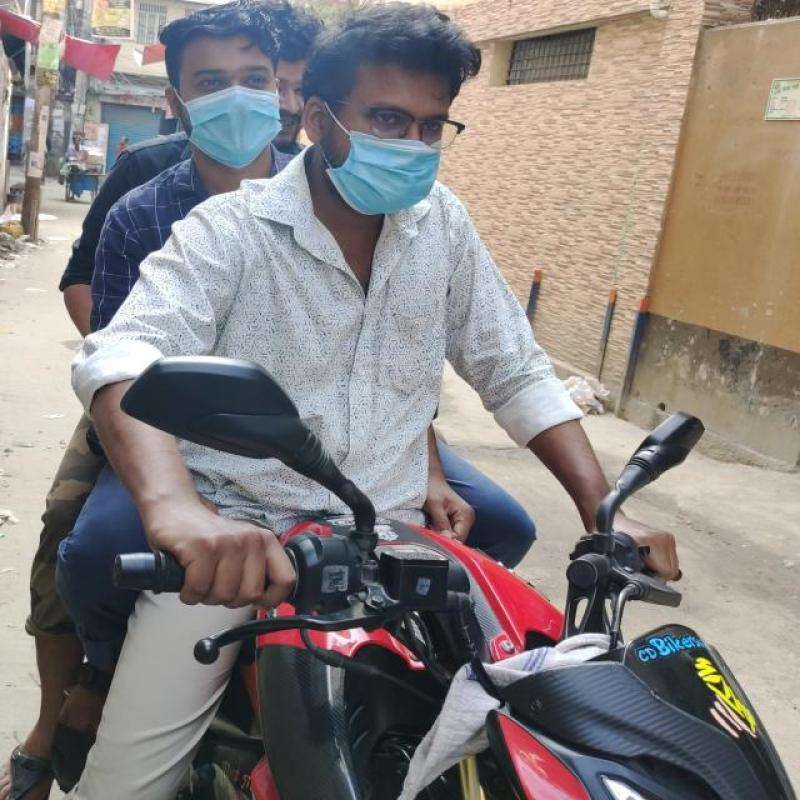nohelmet: (298, 1, 490, 224), (156, 8, 290, 162)
